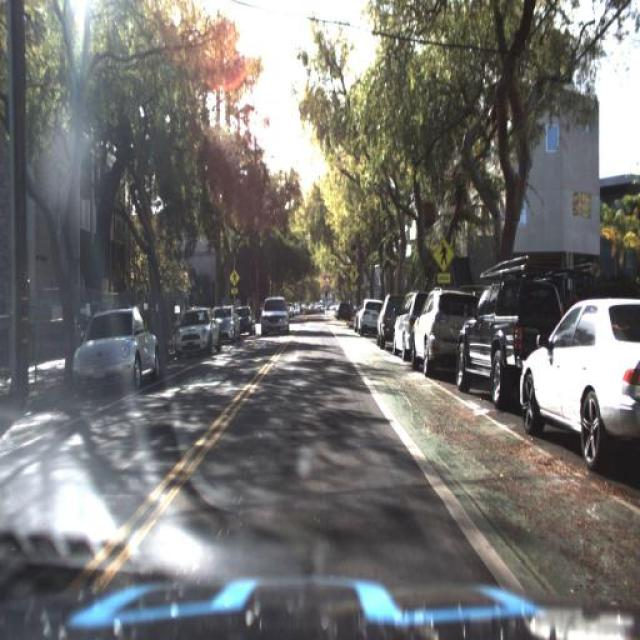car: (517, 295, 640, 478), (452, 252, 586, 408), (69, 297, 159, 391), (410, 288, 474, 381), (171, 304, 221, 358), (392, 286, 427, 362), (256, 296, 296, 338), (378, 288, 403, 352), (257, 294, 289, 336), (214, 300, 241, 348), (356, 293, 380, 346)
